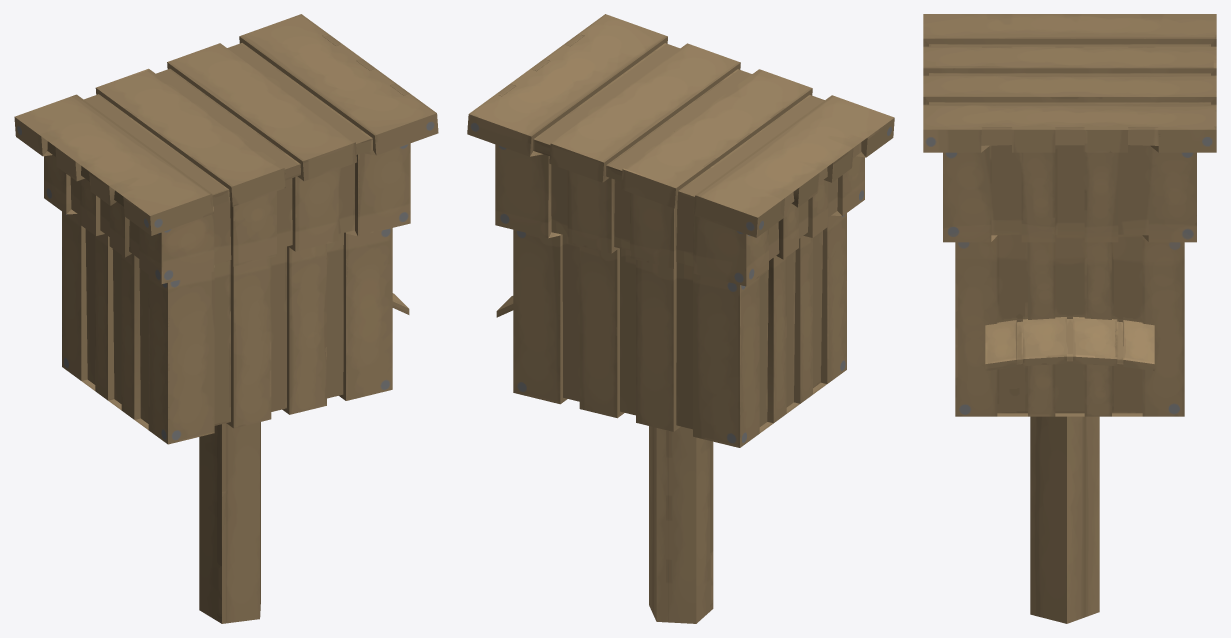
Rendered from apiario1.5.fbx.
3 renders of one model, left to right at view 1: azimuth 30°, elevation 25°; view 2: azimuth 150°, elevation 25°; view 3: azimuth 270°, elevation 25°, orthographic. The views are drawn at different scales.
Parts seen in each view (by area): view 1: apiario; view 2: apiario; view 3: apiario.
Part boxes in pixels (x1,y1,x2,y2): apiario: (14, 14, 438, 623); apiario: (467, 14, 894, 623); apiario: (923, 14, 1216, 623).
Bounding box in the file's own units: 227 × 385 × 185.
Materials: 1 (1 with a texture image).
